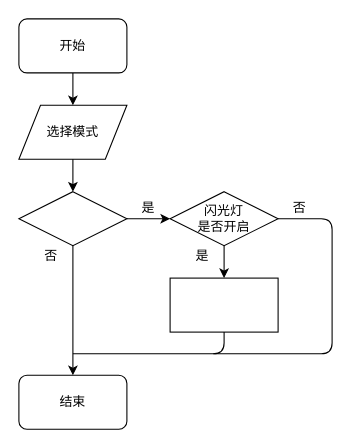
Some shapes in this 352 by 448 pixel diagram are drawn without their labels. The shapes that lost their labels are listed below. From the top down, each one's centre as x and y in pixels, then its label:
point 72,218: 强光模式 是否开启
point 223,304: 关闭闪光灯
